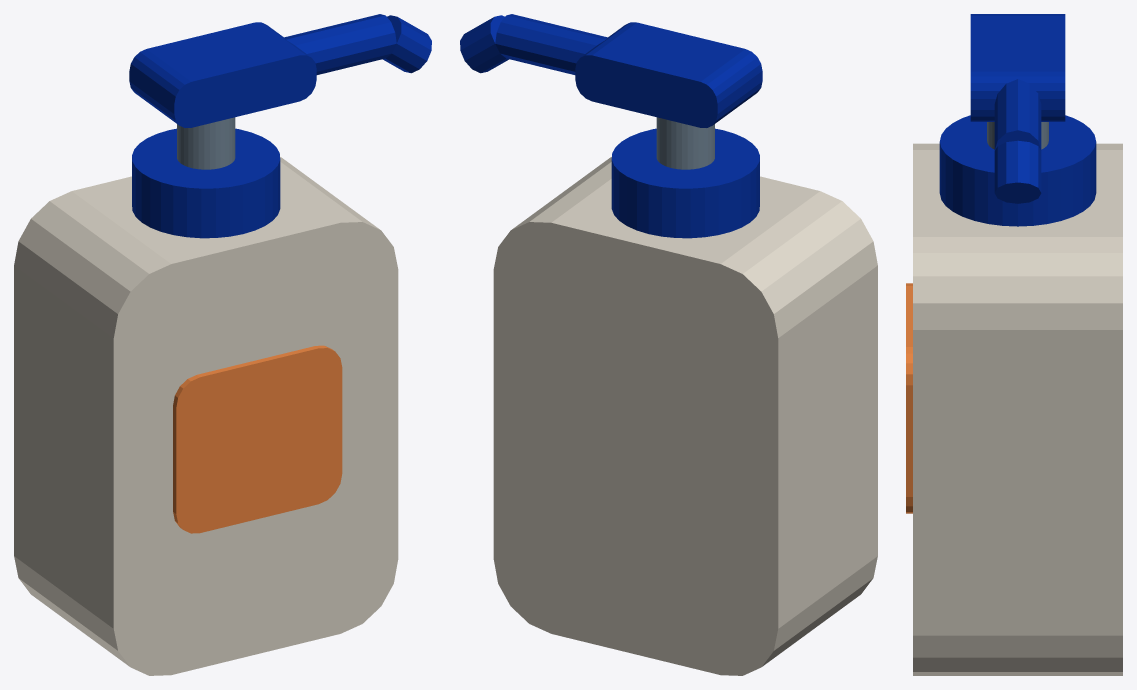
The model's file is pump.glb.
3 renders of one model, left to right at view 1: azimuth 30°, elevation 25°; view 2: azimuth 150°, elevation 25°; view 3: azimuth 270°, elevation 25°, orthographic. The views are drawn at different scales.
Visible parts, largest first — view 1: bottle body, label, pump head, neck, spout0, piston, spout1; view 2: bottle body, pump head, neck, spout0, piston, spout1; view 3: bottle body, neck, pump head, spout1, spout0, label, piston.
Boxes of the visible parts, x1,y1,x2,y2 form: bottle body: [14, 157, 398, 675]; label: [173, 345, 342, 533]; pump head: [129, 22, 316, 127]; neck: [132, 128, 280, 238]; spout0: [284, 14, 396, 74]; piston: [177, 117, 235, 169]; spout1: [383, 15, 431, 73]; bottle body: [493, 157, 877, 675]; pump head: [575, 22, 762, 127]; neck: [611, 128, 759, 238]; spout0: [495, 14, 607, 74]; piston: [656, 117, 714, 169]; spout1: [460, 15, 508, 73]; bottle body: [913, 143, 1122, 675]; neck: [939, 115, 1096, 226]; pump head: [970, 14, 1065, 121]; spout1: [994, 140, 1041, 203]; spout0: [994, 79, 1041, 150]; label: [906, 283, 912, 513]; piston: [987, 122, 1048, 149].
Bounding box in the file's own units: 1.07 × 1.58 × 0.527.
